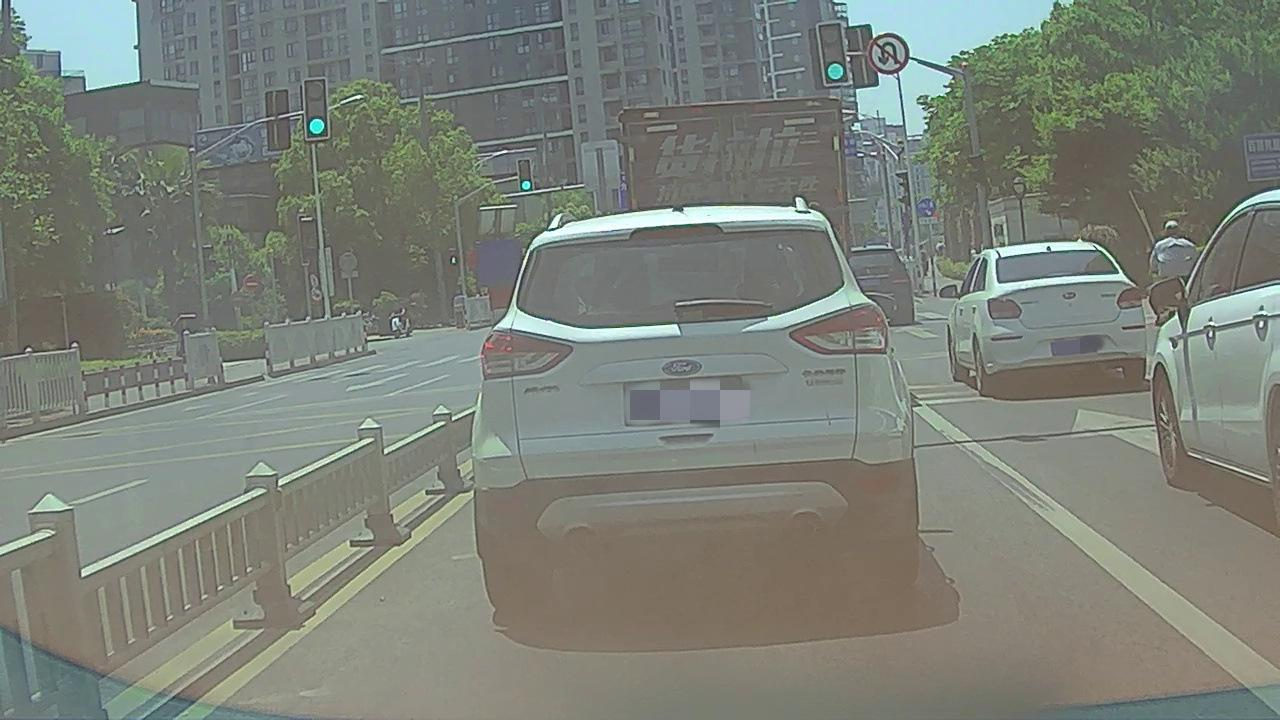traffic_light: (821, 25, 850, 83), (303, 79, 327, 138), (520, 162, 532, 191)
